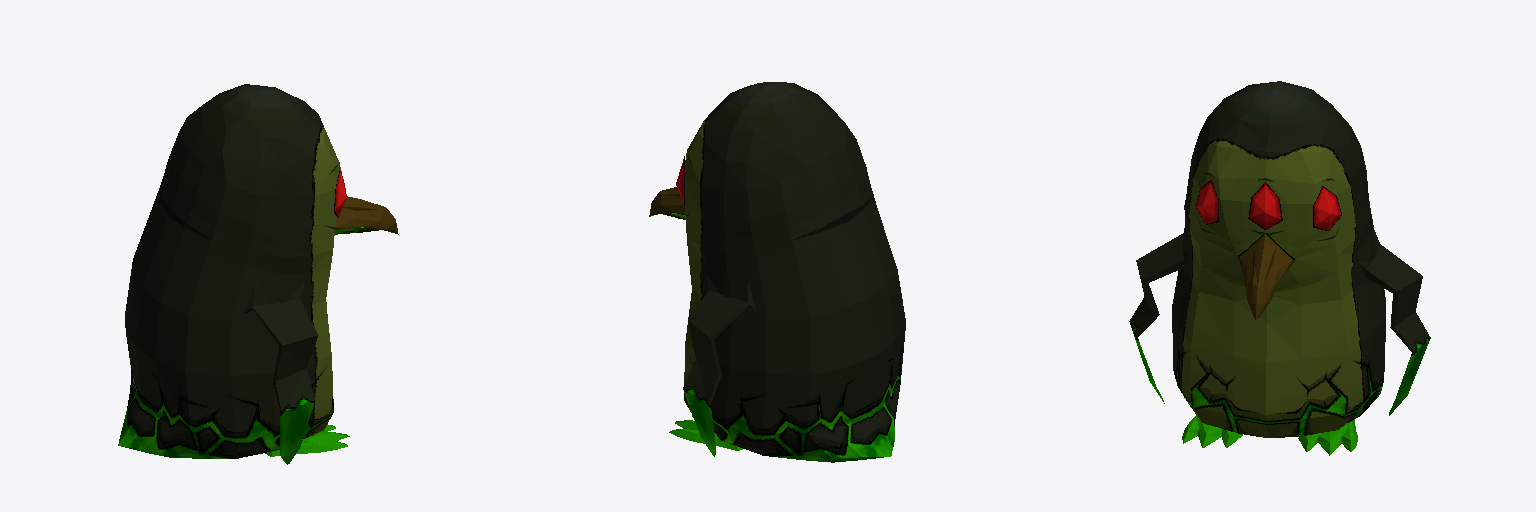
The picture shows the model from 3 angles: view 1: azimuth 30°, elevation 25°; view 2: azimuth 150°, elevation 25°; view 3: azimuth 270°, elevation 25°; orthographic projection.
Parts seen in each view (by area): view 1: pegu; view 2: pegu; view 3: pegu.
Part boxes in pixels (x1,y1,x2,y2): pegu: (118,84,398,464); pegu: (649,82,905,462); pegu: (1129,81,1430,455).
Size of the model in its own units: 1.81 by 2.21 by 1.81.
Materials: 1 (1 with a texture image).